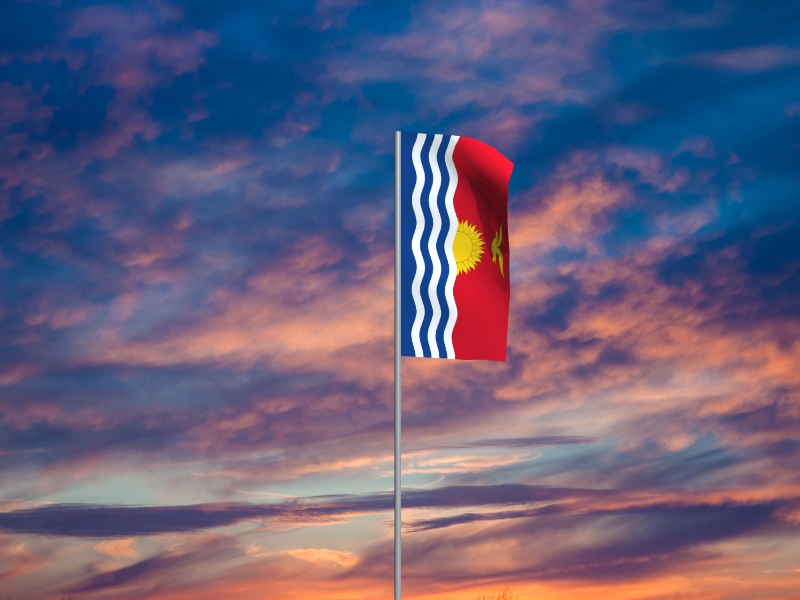ki: (401, 132, 516, 363)
